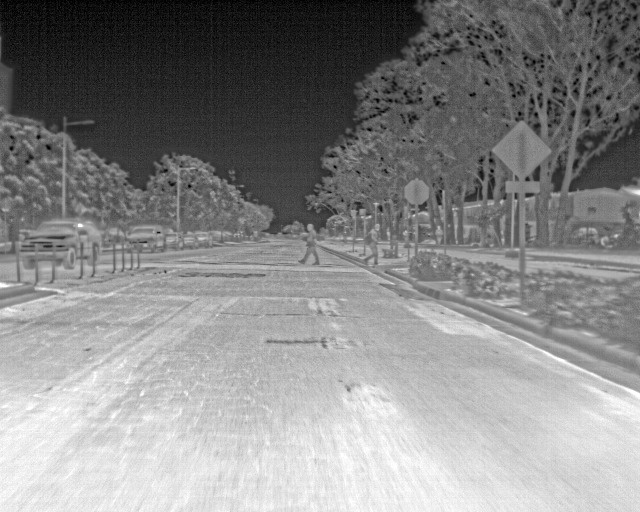vehicle: (21, 219, 102, 273), (127, 223, 165, 252)
